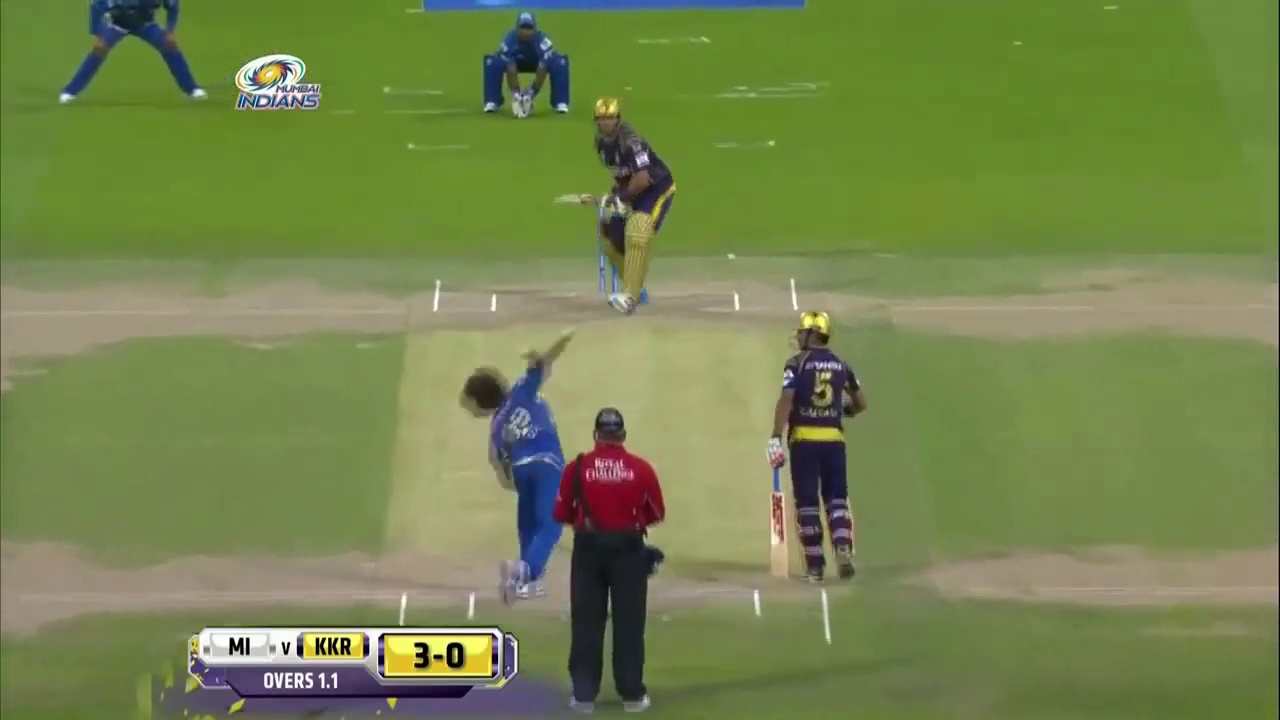bat: (771, 467, 788, 578)
